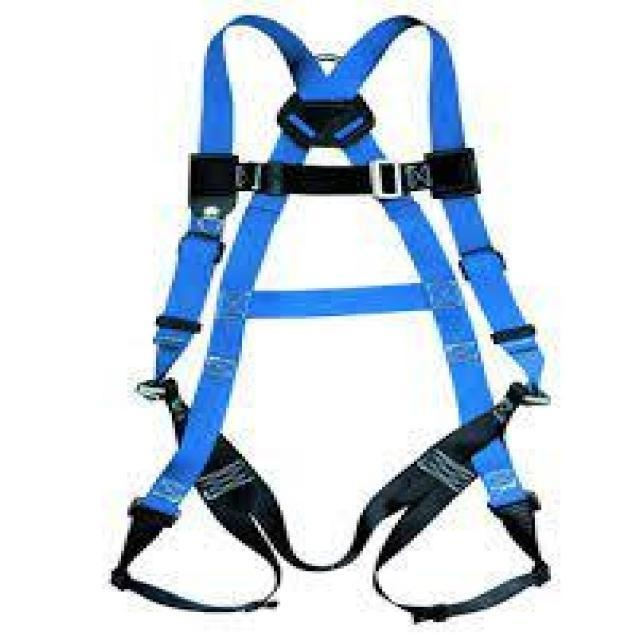Arnes_seguridad: (112, 11, 552, 625)
